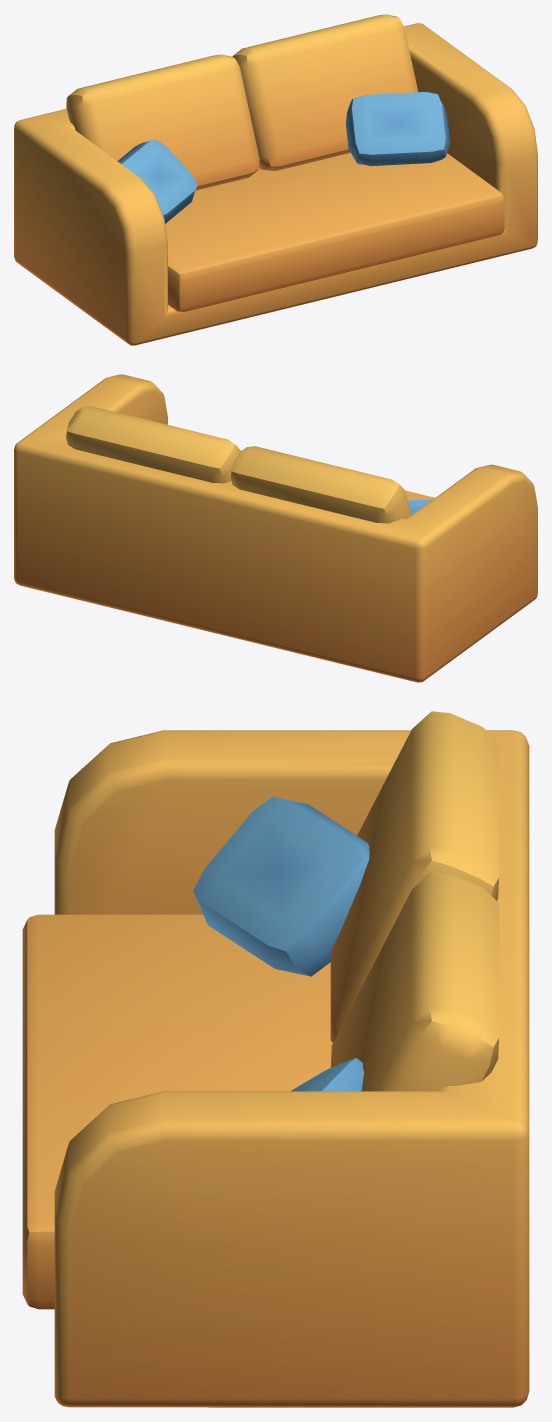
The model's file is fur-couch-pillows.glb.
3 views of the same model, one above another, from view 1: azimuth 30°, elevation 25°; view 2: azimuth 150°, elevation 25°; view 3: azimuth 270°, elevation 25° (orthographic). The views are drawn at different scales.
Visible parts, largest first — view 1: couch_pillows; view 2: couch_pillows; view 3: couch_pillows.
Part boxes in pixels (left/top/right/bottom): couch_pillows: left=14, top=14, right=537, bottom=345; couch_pillows: left=14, top=374, right=537, bottom=682; couch_pillows: left=22, top=711, right=529, bottom=1407.
Bounding box in the file's own units: 3 × 1.22 × 1.6.
Materials: 1 (1 with a texture image).
